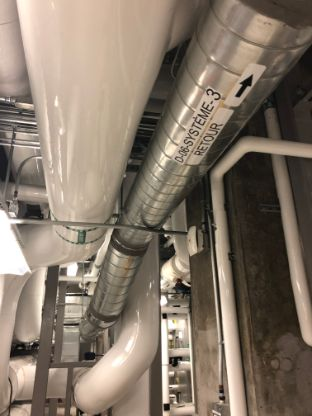Duct: (71, 1, 312, 342)
